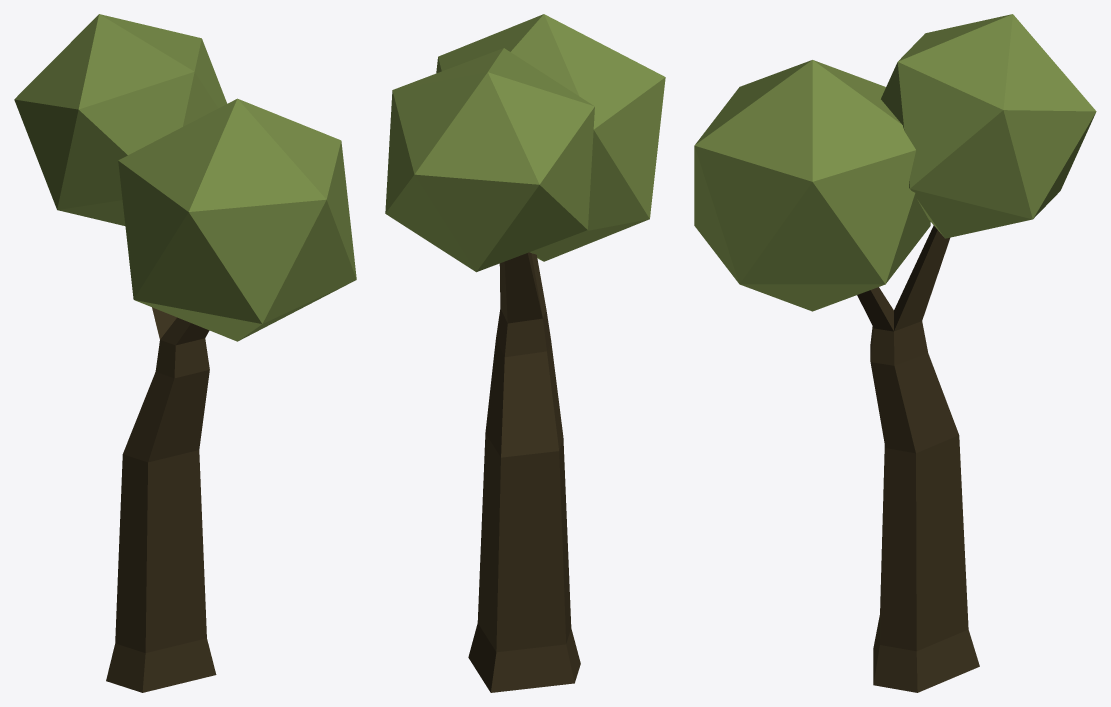
The model's file is TreeLowPoly.fbx.
3 views of the same model, side by side, from view 1: azimuth 30°, elevation 25°; view 2: azimuth 150°, elevation 25°; view 3: azimuth 270°, elevation 25° (orthographic). The views are drawn at different scales.
Visible parts, largest first — view 1: TreeLowPoly; view 2: TreeLowPoly; view 3: TreeLowPoly.
Part boxes in pixels (<box>): TreeLowPoly: <box>14,14,356,692</box>; TreeLowPoly: <box>385,14,665,692</box>; TreeLowPoly: <box>694,14,1096,692</box>.
Bounding box in the file's own units: 33.44 × 92.44 × 52.15.
